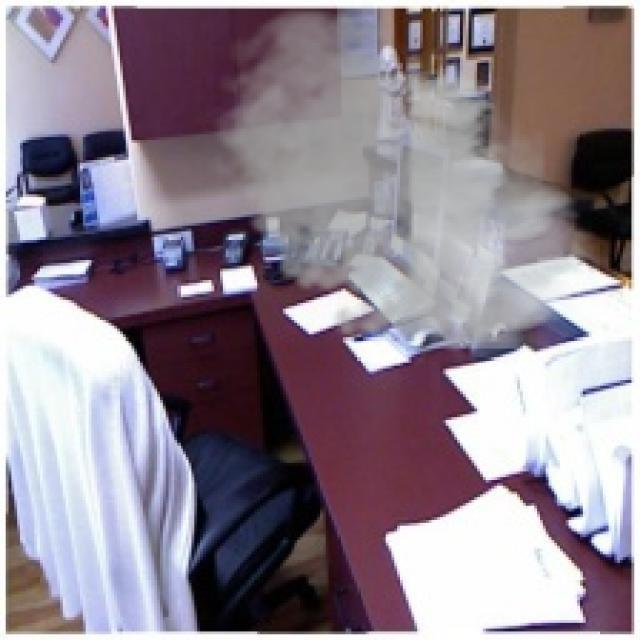Smoke: (200, 0, 600, 363)
